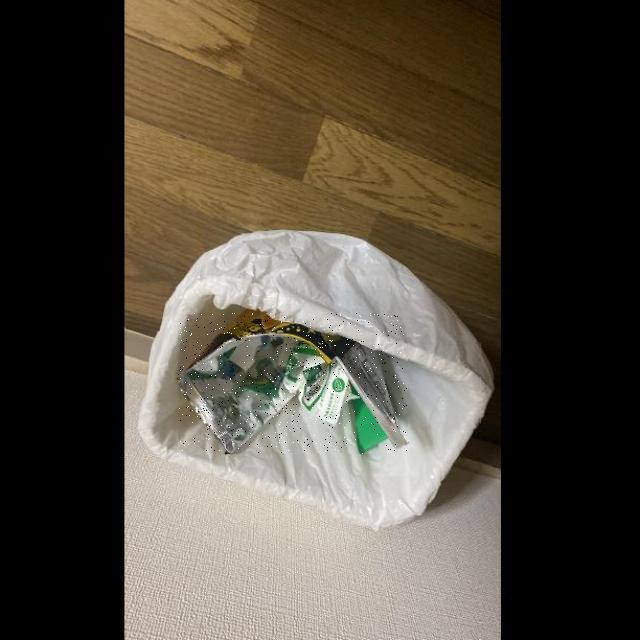paper: (284, 341, 360, 425), (350, 381, 389, 454), (224, 335, 271, 371)
wrapper: (179, 313, 408, 453)
